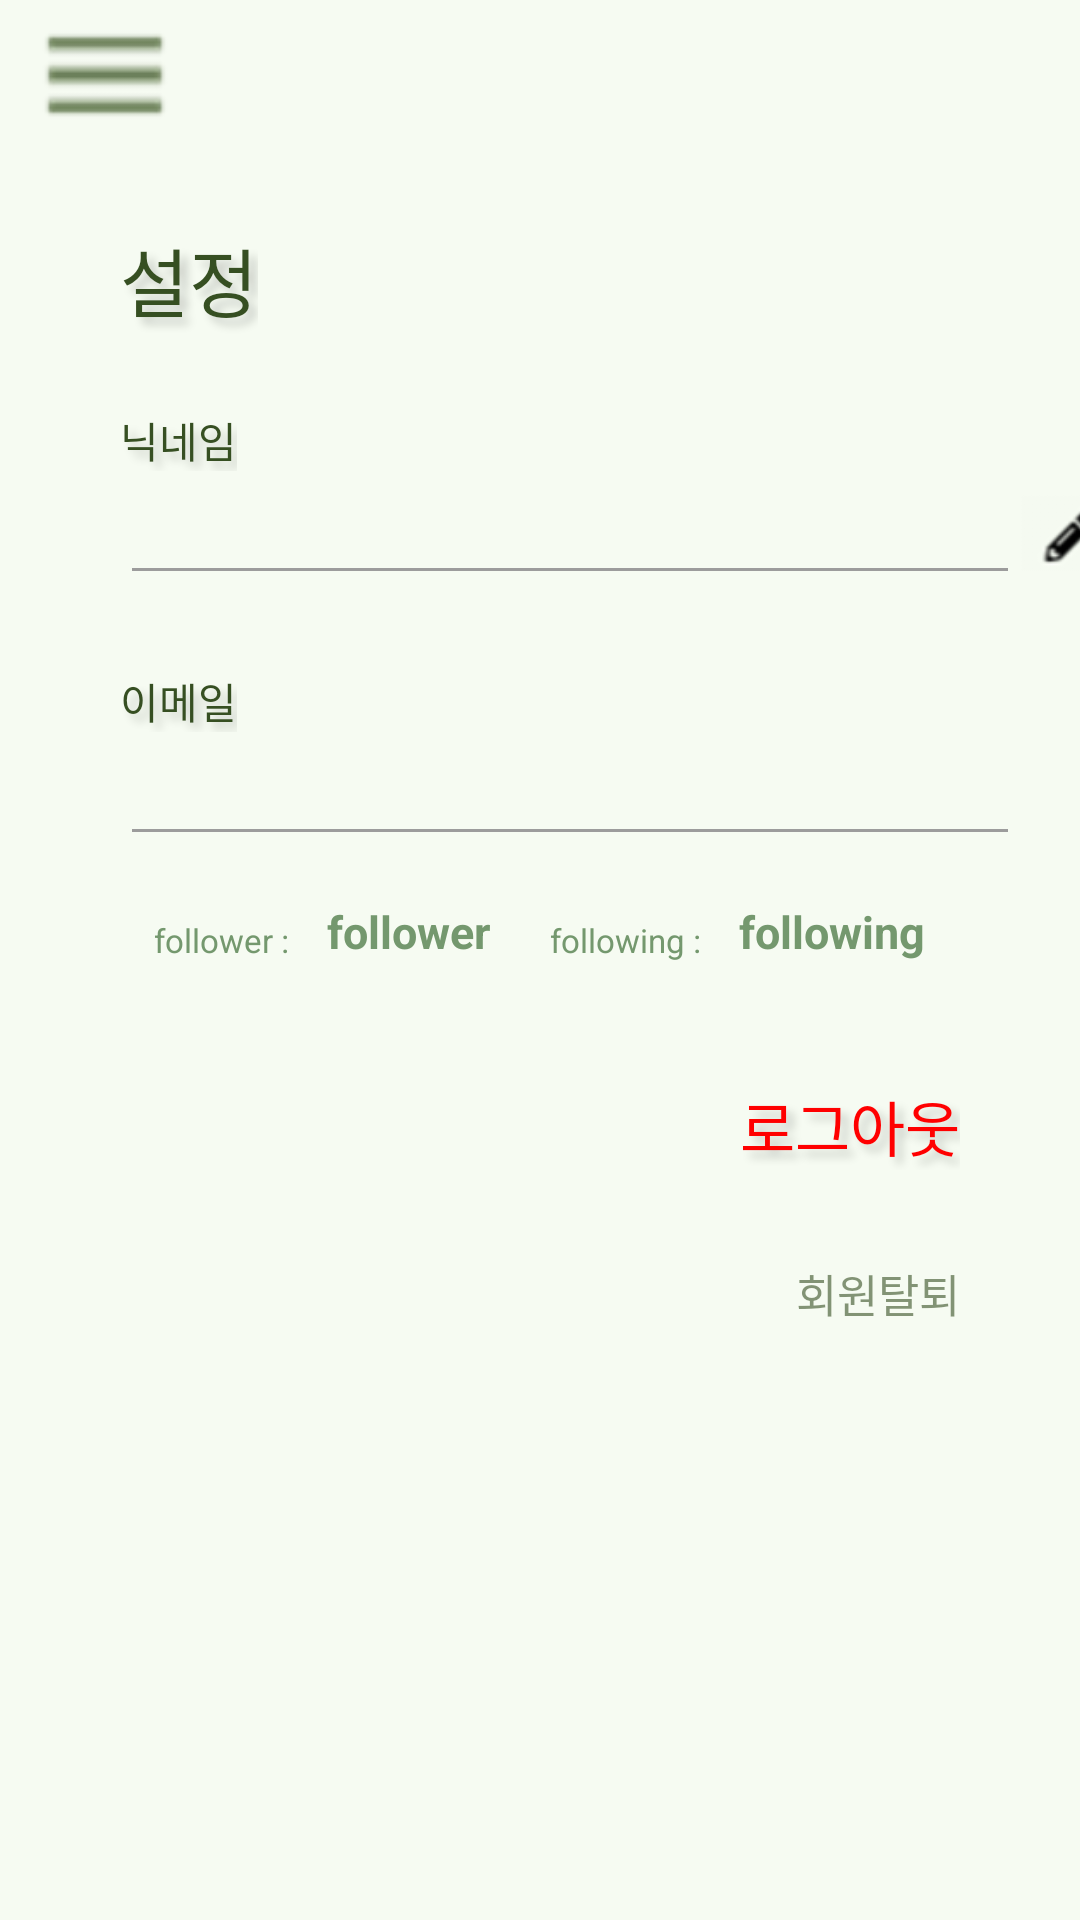

Locate icon controls on the screen. Image size 1080w x 1920h, boxes as (x1, y1, x2, y2).
menu: (47, 35, 163, 115)
